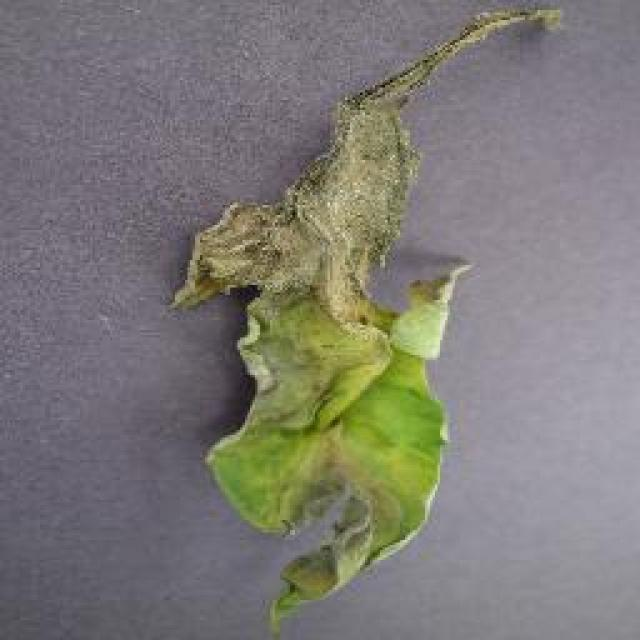Tomato Late Blight: (105, 116, 482, 376)
